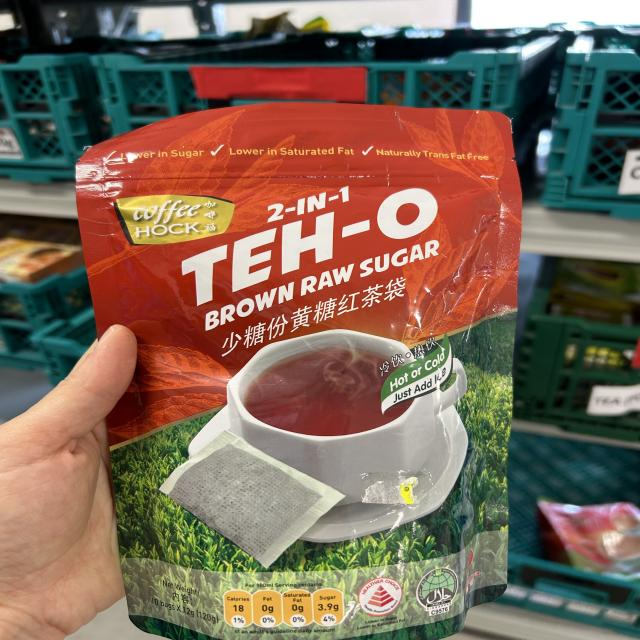object_name: (108, 129, 506, 620)
